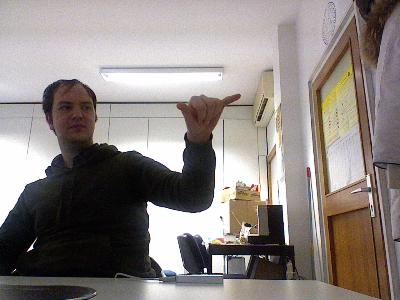六六六: (175, 93, 242, 136)
